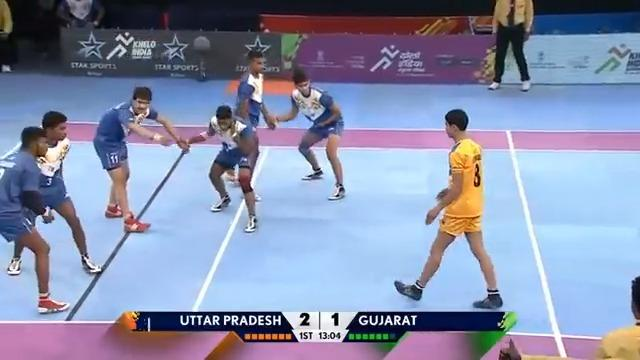Player: (6, 109, 103, 275), (92, 85, 189, 232), (0, 125, 70, 313), (271, 66, 346, 200), (183, 103, 260, 232), (225, 48, 277, 202)
Raider: (393, 108, 503, 309)
referee: (486, 0, 534, 91)
